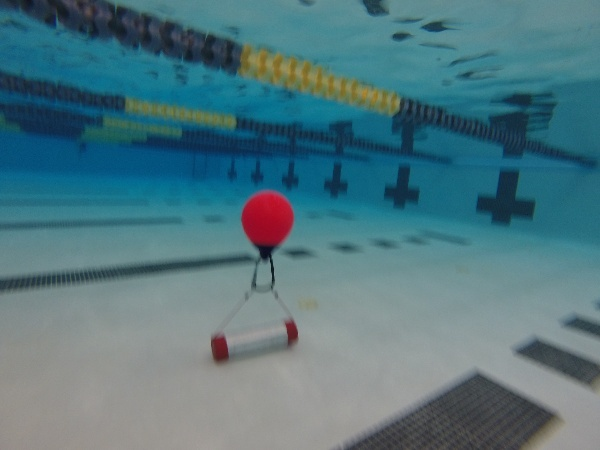buoy_red: (236, 192, 297, 261)
